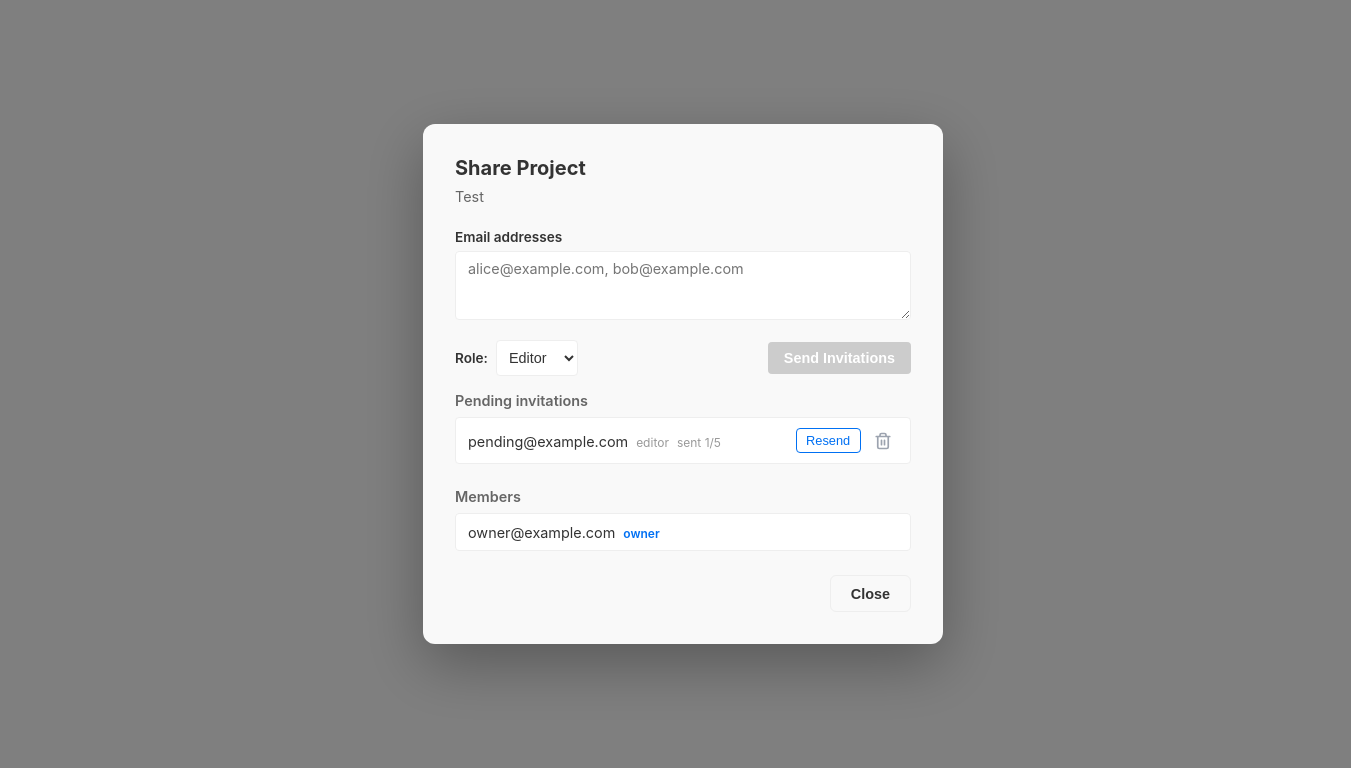
Test: ShareDialog invitations › resending › resends an invitation and shows its updated send count
Expected: the text "sent 1/5" is shown, [677,435,721,450]
Click the button "Resend" at [828, 441], box [796,428,861,453]
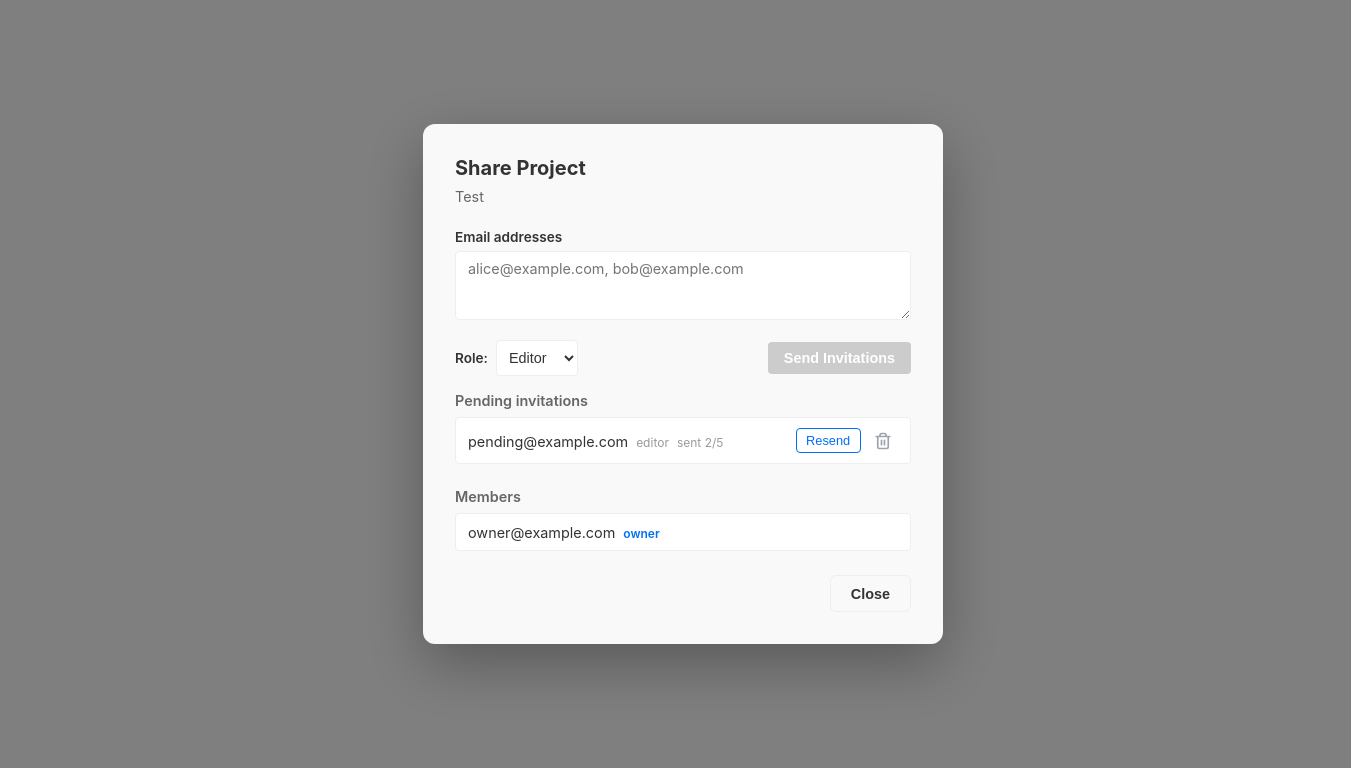
Result: the text "sent 2/5" is shown at [677,435,723,450]
